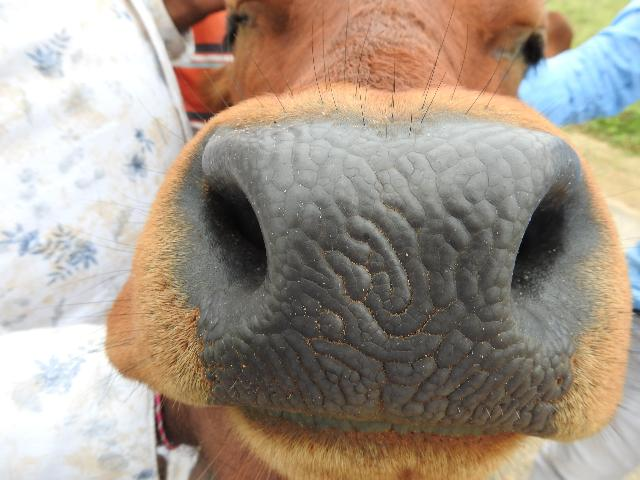Muzzle: (215, 132, 552, 427)
